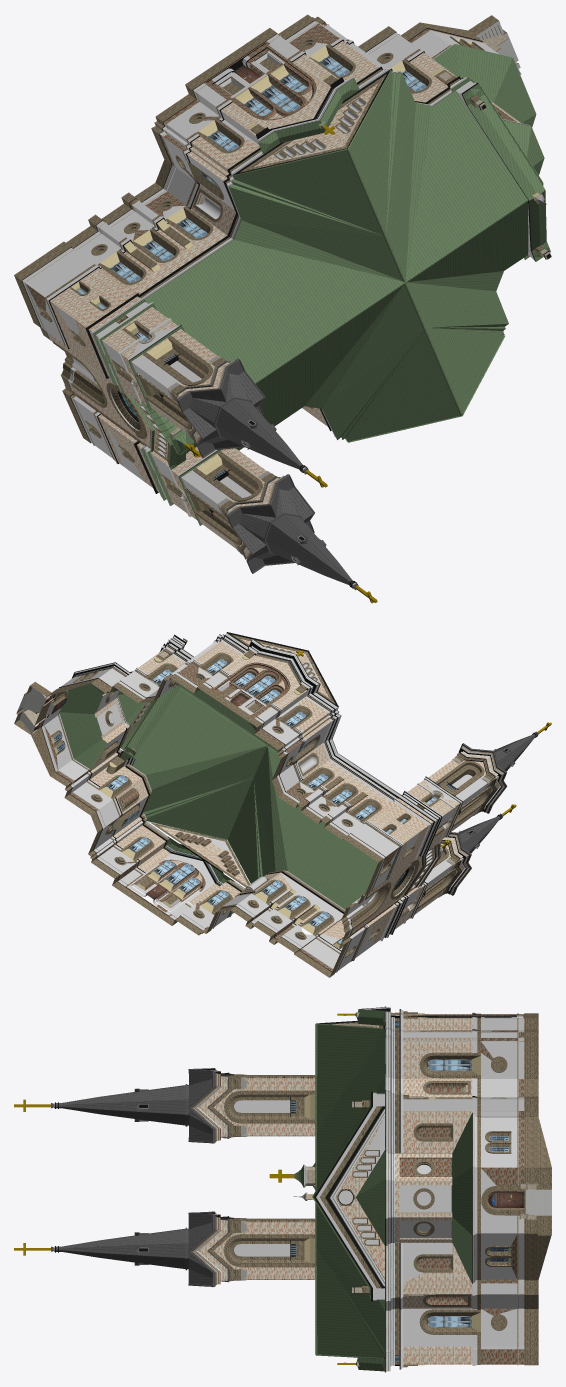
File: Toompea_10.obj
The picture shows the model from 3 angles, top to bottom: view 1: azimuth 30°, elevation 25°; view 2: azimuth 150°, elevation 25°; view 3: azimuth 270°, elevation 25°; orthographic projection. The views are drawn at different scales.
Visible parts, largest first — view 1: Toompea_10; view 2: Toompea_10; view 3: Toompea_10.
Boxes of the visible parts, x1,y1,x2,y2 form: Toompea_10: (14, 14, 551, 603); Toompea_10: (14, 632, 551, 977); Toompea_10: (14, 1006, 551, 1372).
Bounding box in the file's own units: 65.93 × 46.7 × 63.03.
